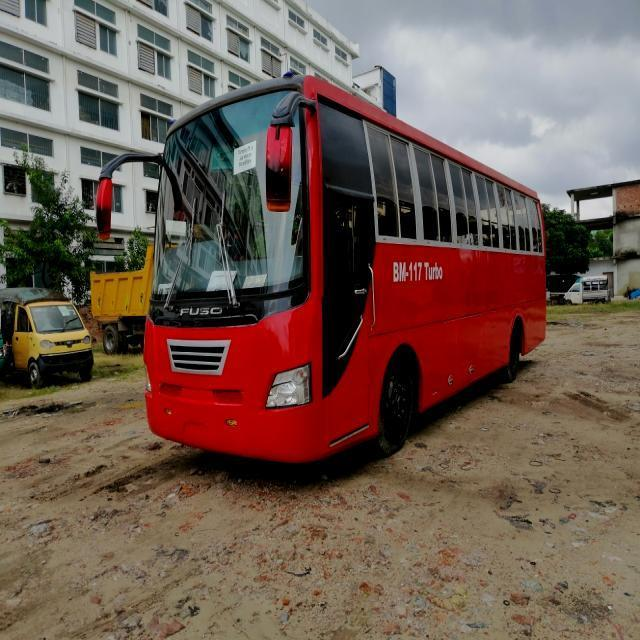Bus: (46, 37, 578, 498)
